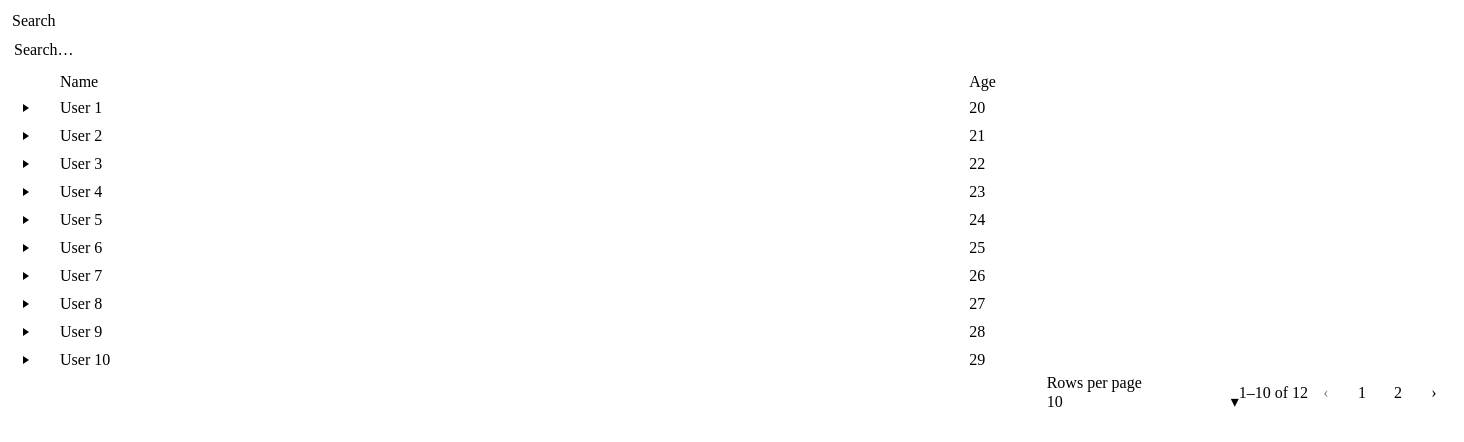
Test case: expansion toggle is wired to the detail row via aria-controls
What coordinates should you click on to do the following:
click the button named "Expand row 2"
I would click on:
 (26, 136)
Its box is [12,122,40,150].
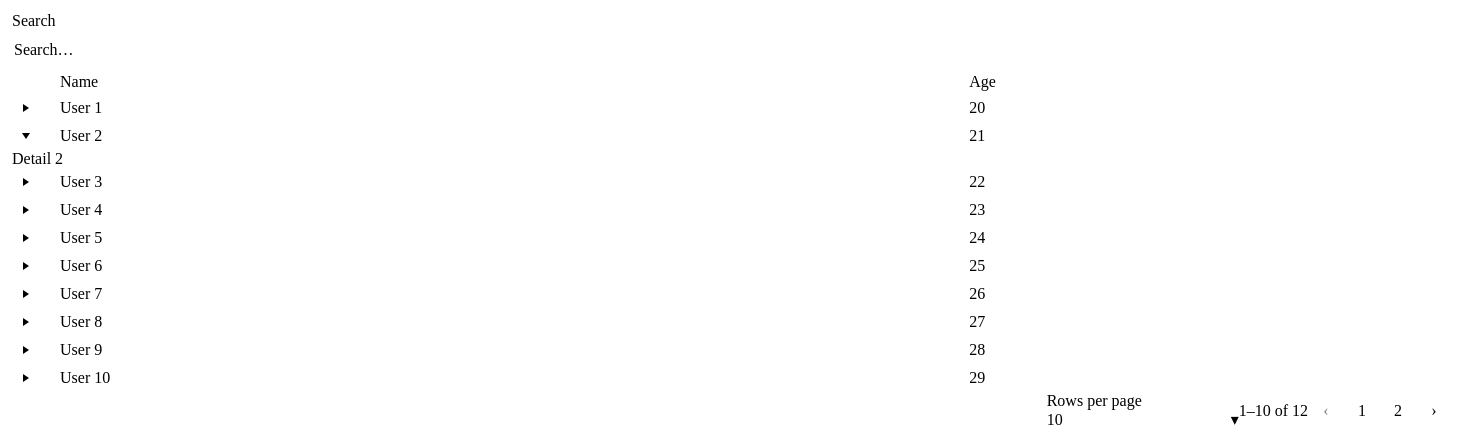
expect the cell "Detail 2" is shown: met, box [12,150,1452,168]
